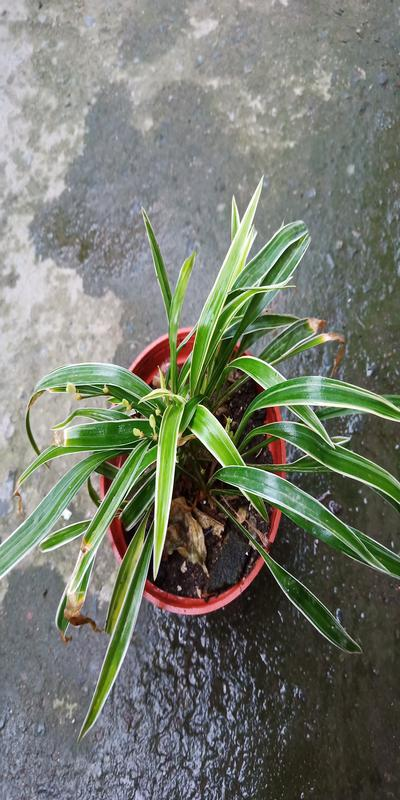Yellow and green leaf: (3, 246, 392, 652)
